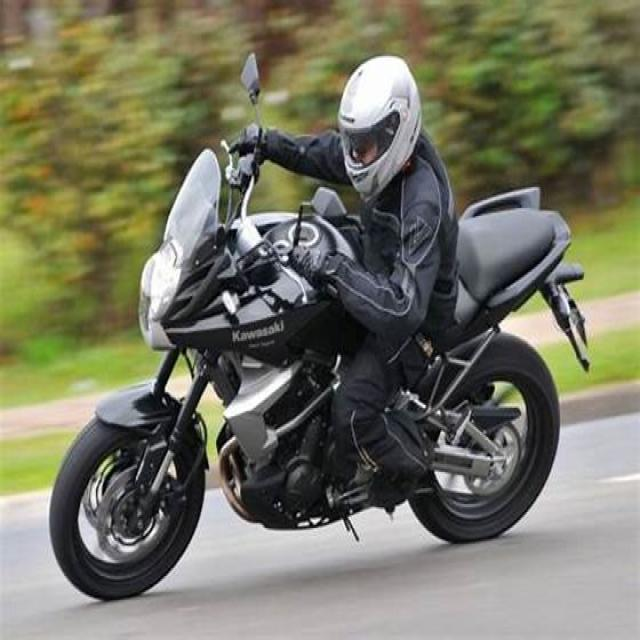helmet: (334, 50, 425, 210)
